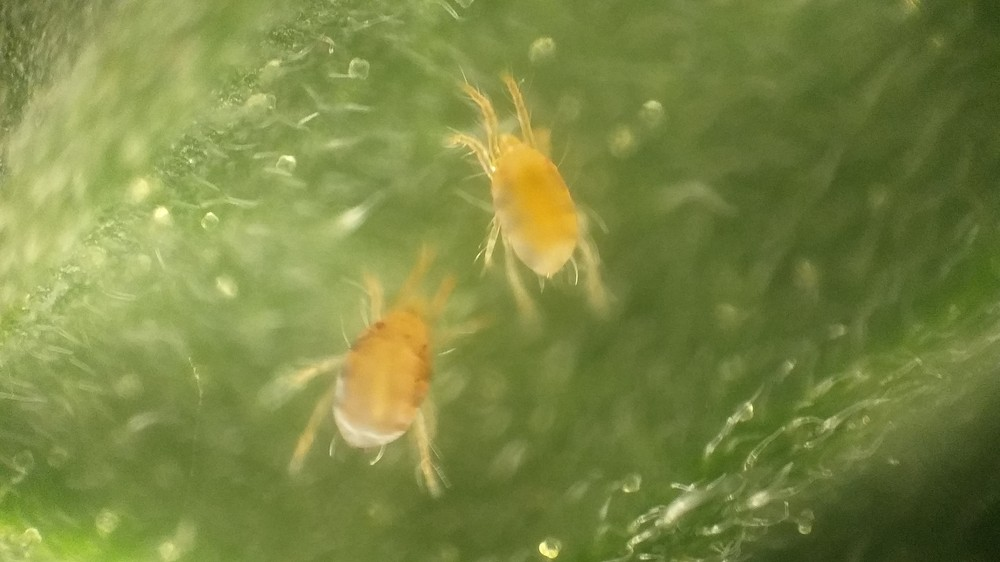Aracnido Rojo: (441, 62, 648, 327), (262, 251, 477, 501)
